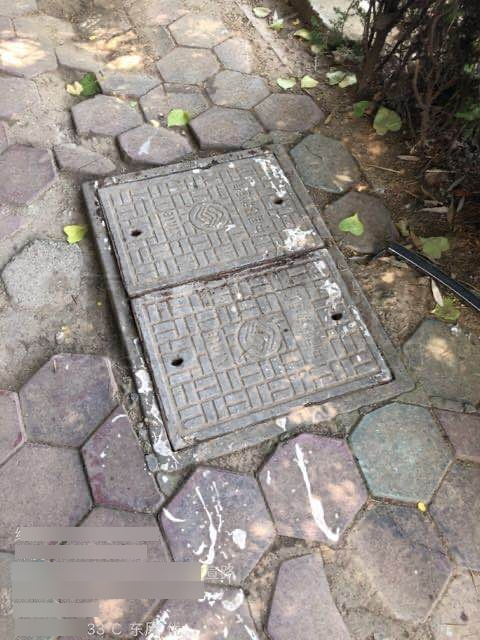good: (84, 142, 416, 471)
